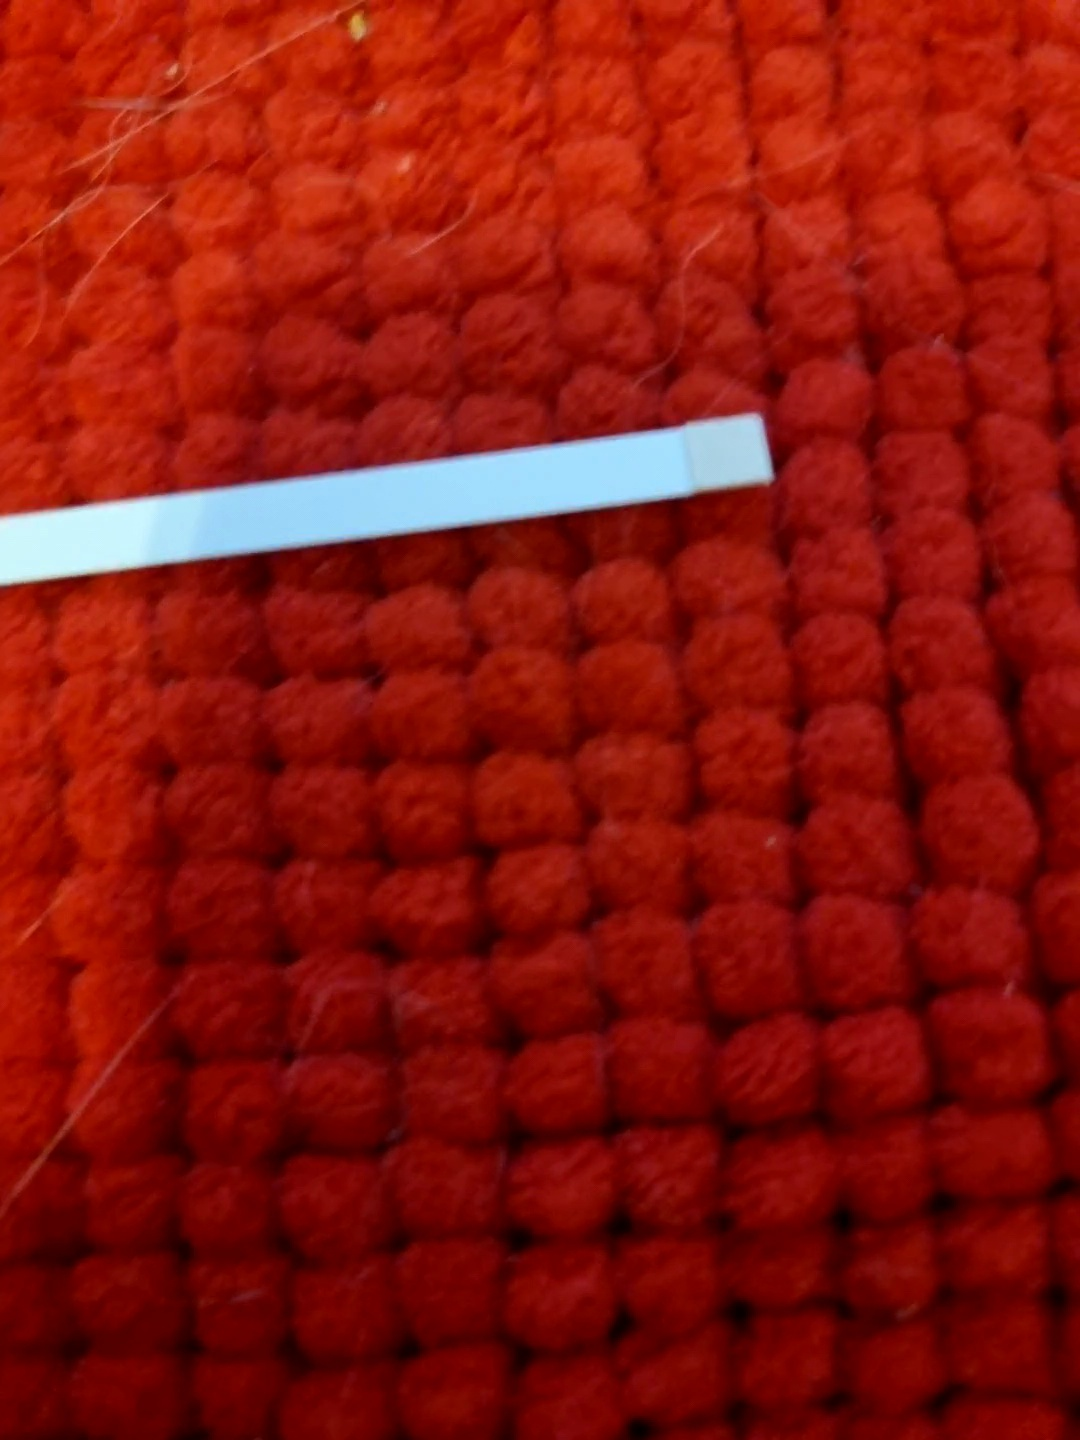keto-tip: (674, 406, 782, 501)
